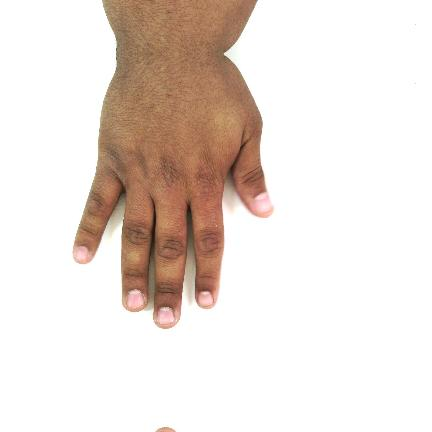Nail: (252, 192, 273, 214), (156, 307, 176, 325), (127, 289, 145, 308), (197, 291, 213, 307), (74, 246, 89, 260), (160, 431, 169, 432)
